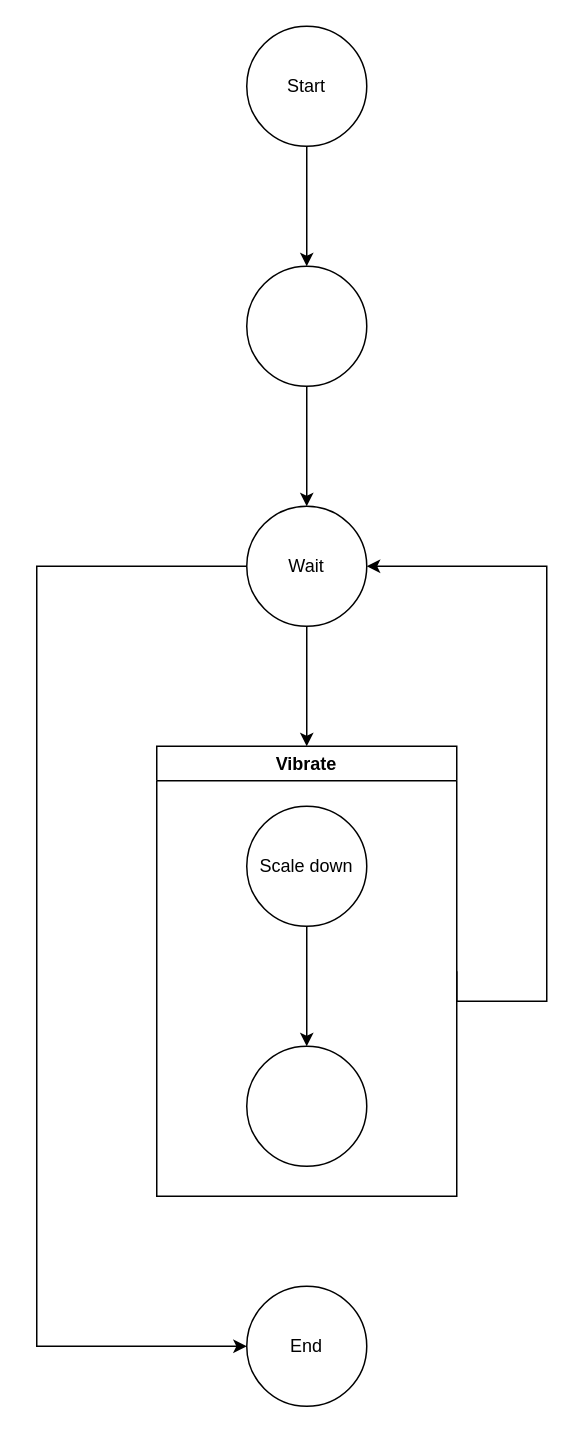
The diagram is 585 pixels wide and 1433 high, and some of its shapes have lost their labels. The centre of each missing label's shape, as x and y in pixels:
"Pop up" belongs at (306,325).
"Scale up" belongs at (306,1105).
